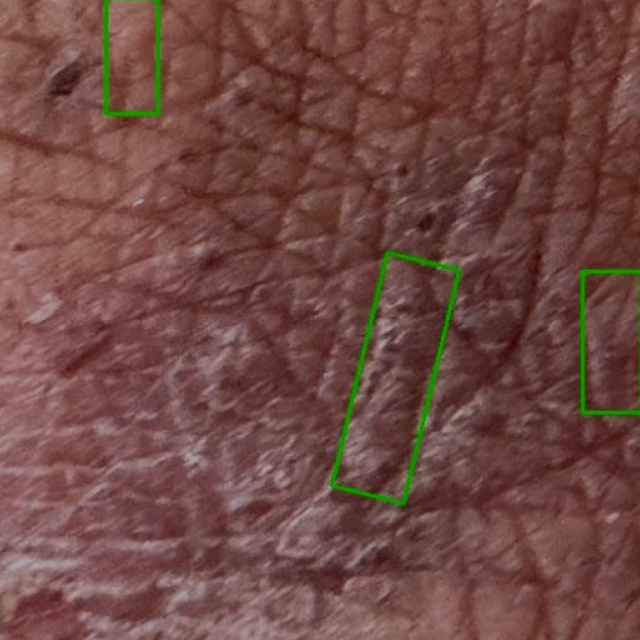Scabies: (331, 253, 458, 503), (582, 271, 639, 412), (106, 0, 158, 113)
